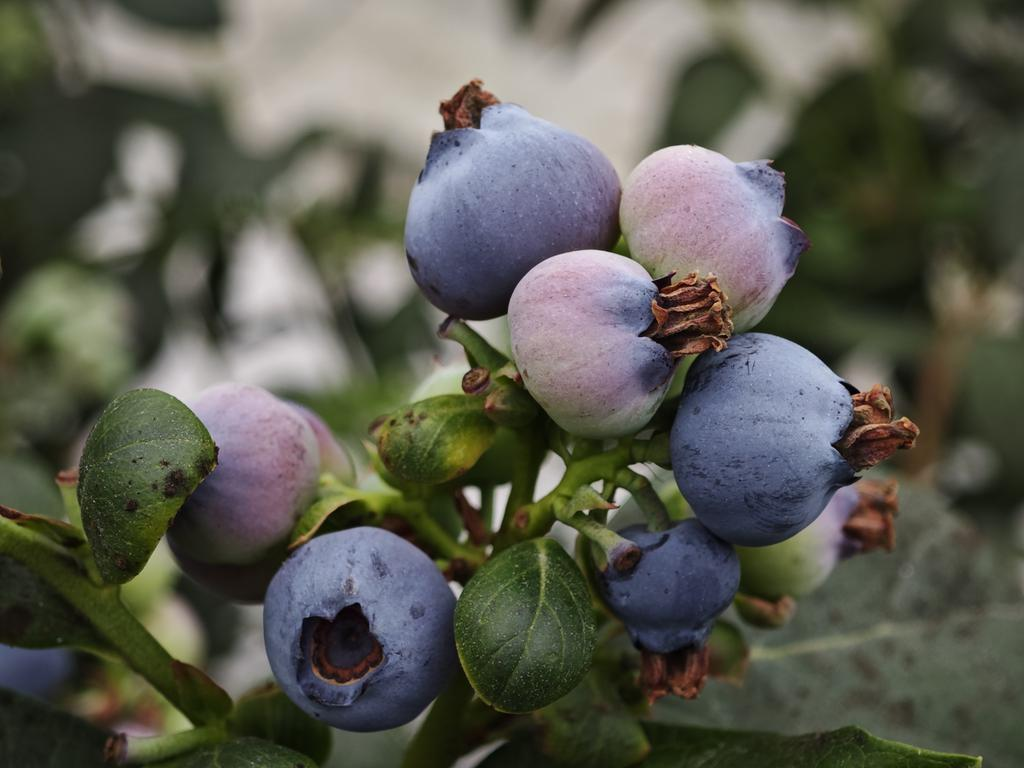RipeBlueBerry: (681, 336, 882, 547), (266, 528, 456, 731), (409, 81, 620, 250), (600, 520, 743, 659)
Semi-RipeBlueBerry: (620, 113, 801, 330), (510, 250, 694, 439)
